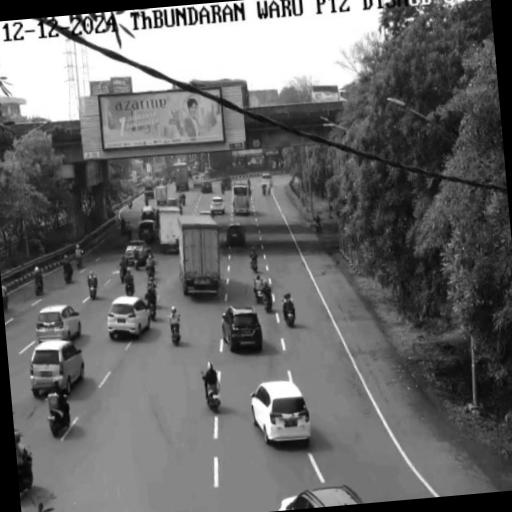bus: (225, 176, 259, 222)
car: (246, 372, 322, 454), (26, 334, 92, 394), (214, 296, 267, 360), (277, 475, 367, 511), (102, 288, 150, 352), (32, 304, 80, 339), (208, 189, 230, 219), (140, 214, 160, 244)
motorcycle: (42, 378, 74, 442), (15, 434, 40, 494), (161, 298, 190, 346), (200, 364, 225, 417), (54, 237, 78, 289), (280, 278, 302, 334), (0, 273, 20, 322), (27, 261, 50, 303), (144, 278, 164, 322), (111, 248, 134, 286), (244, 242, 267, 276), (83, 269, 104, 302), (261, 275, 276, 314), (120, 272, 140, 298), (144, 250, 160, 280), (74, 239, 90, 268), (116, 214, 130, 241), (252, 272, 264, 302)
truck: (176, 206, 230, 300), (168, 156, 194, 198), (159, 208, 180, 249)
